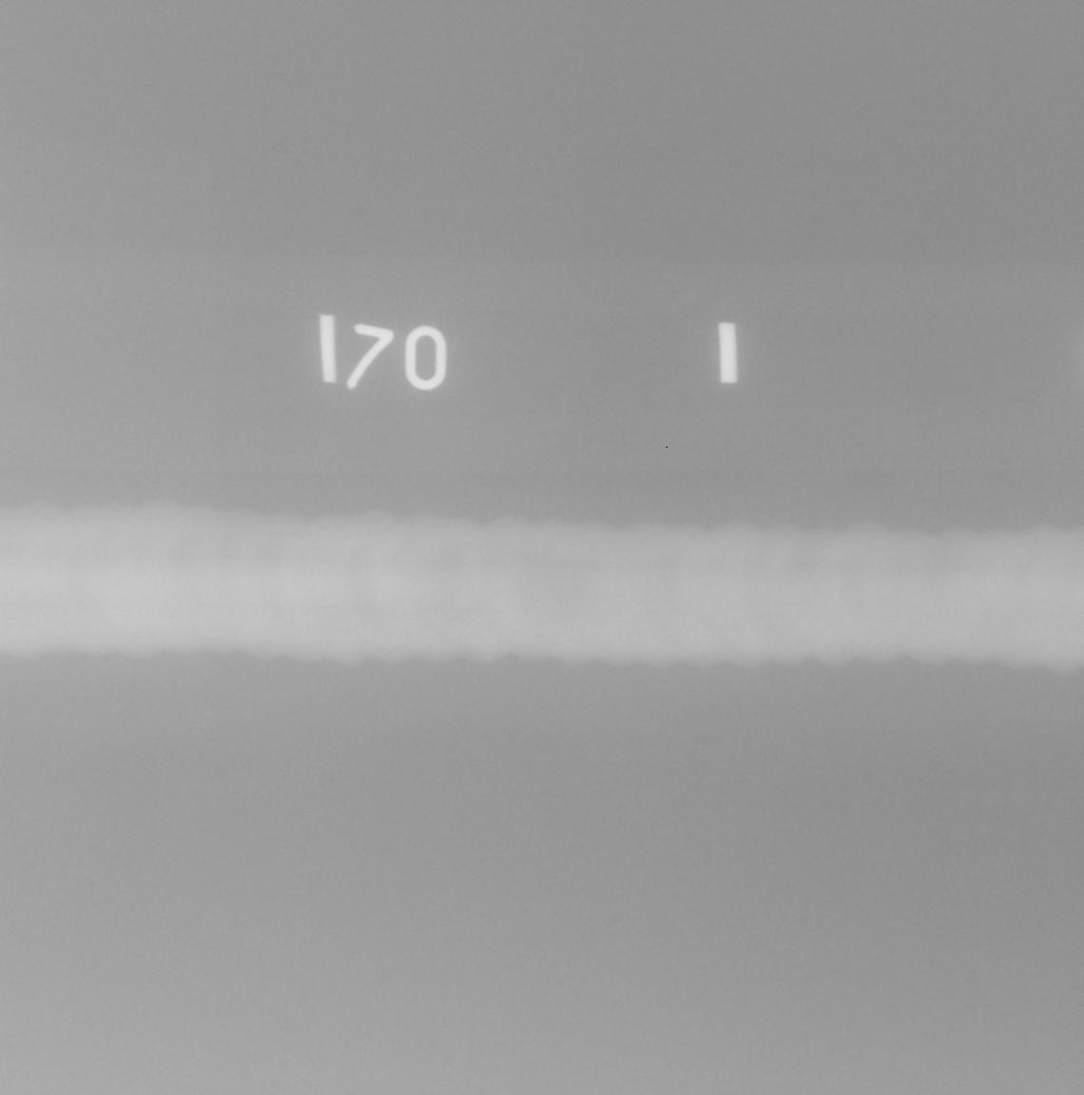Inclusion: (553, 598, 566, 606), (542, 573, 549, 580), (573, 586, 580, 591), (788, 580, 793, 585), (799, 576, 804, 580), (809, 574, 812, 579), (803, 562, 807, 565), (862, 579, 866, 582)
Pore/Porosity: (277, 608, 282, 611)
